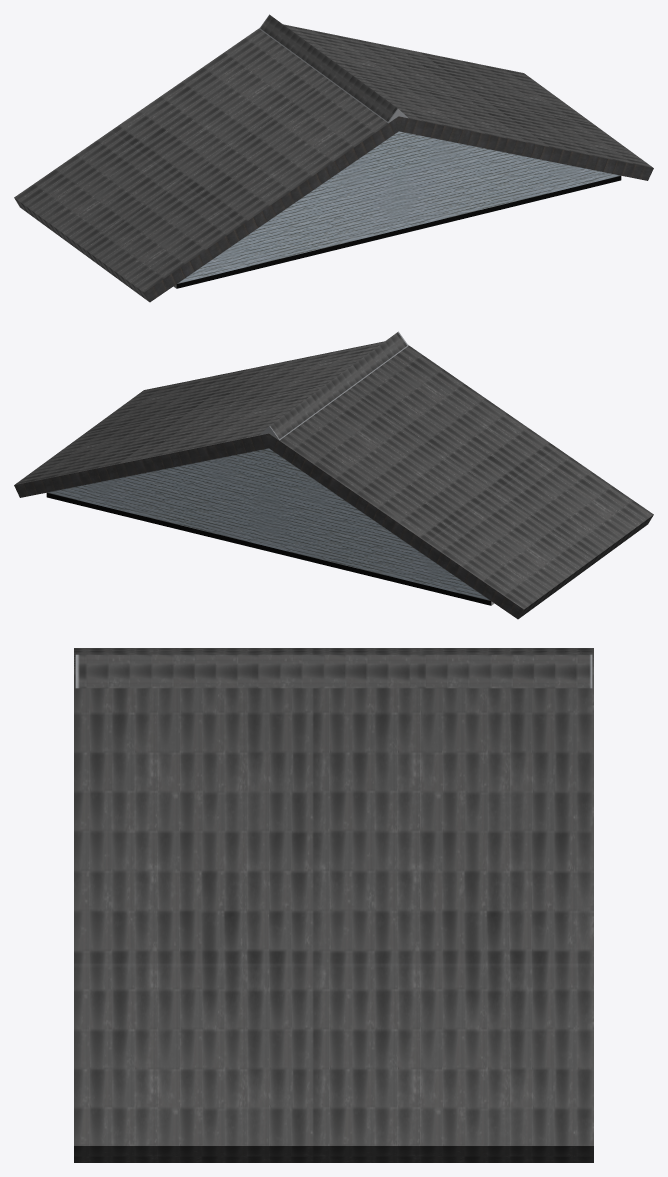
Rendered from KotoHouse_09.fbx.
3 renders of one model, top to bottom at view 1: azimuth 30°, elevation 25°; view 2: azimuth 150°, elevation 25°; view 3: azimuth 270°, elevation 25°, orthographic. The views are drawn at different scales.
Parts seen in each view (by area): view 1: SM_KotoHouse008; view 2: SM_KotoHouse008; view 3: SM_KotoHouse008.
Boxes of the visible parts, x1,y1,x2,y2 form: SM_KotoHouse008: (14,14,653,302); SM_KotoHouse008: (14,331,653,619); SM_KotoHouse008: (74,648,593,1162).
Size of the model in its own units: 825 by 205 by 364.
Materials: 1 (1 with a texture image).
